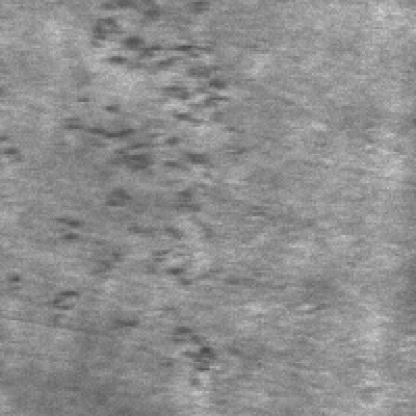rolled-in_scale: (62, 4, 216, 310), (106, 318, 214, 391)
